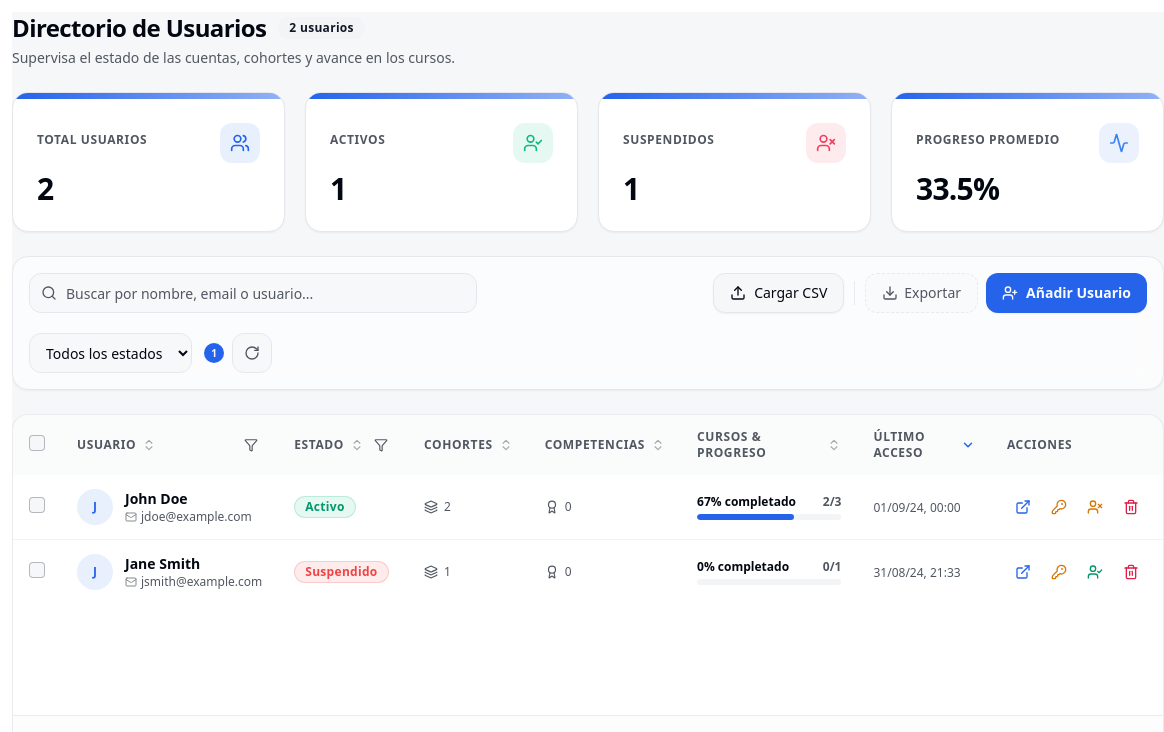
Test: UsersView behavior tests › shows bulk action toolbar when rows are selected
The width and height of the screenshot is (1164, 732).
expect the link "John Doe" is shown: met, box [125, 489, 188, 509]
Note: Click on the first row checkbox (index 1, as index 0 is header select-all)
Click the checkbox named "Seleccionar fila 201" at (37, 504), box [29, 496, 45, 512]
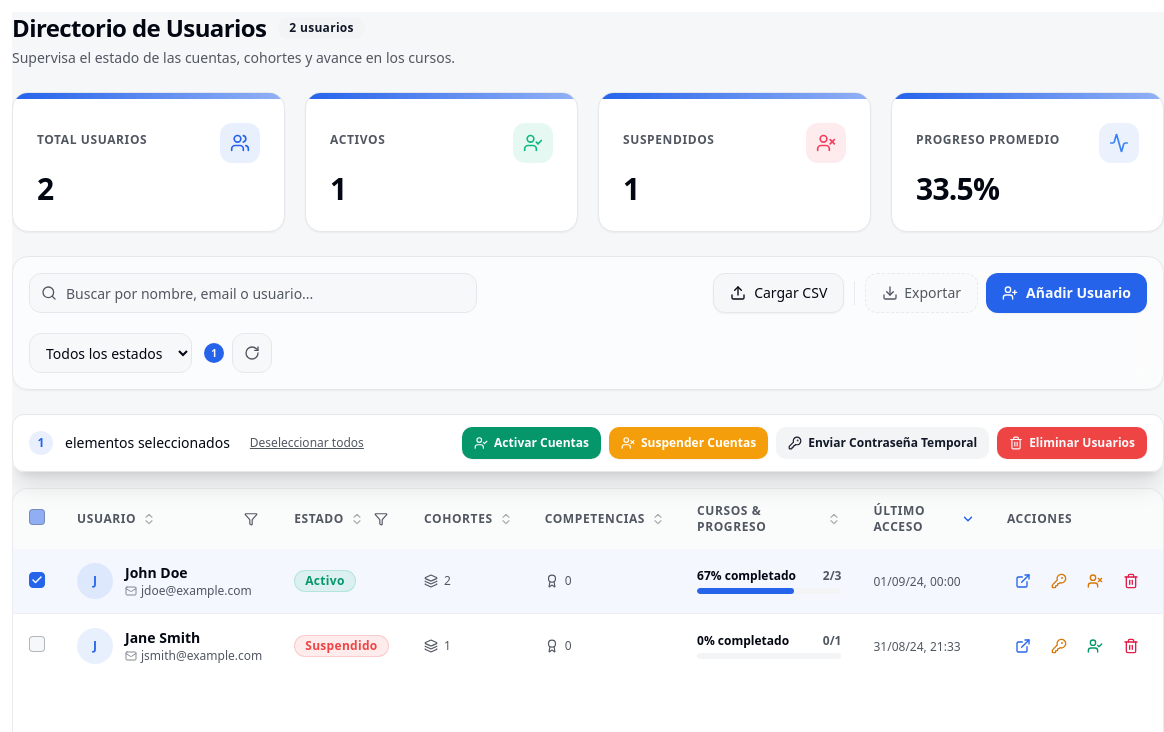
expect the text "elementos seleccionados" is shown: met, box [65, 433, 230, 453]
